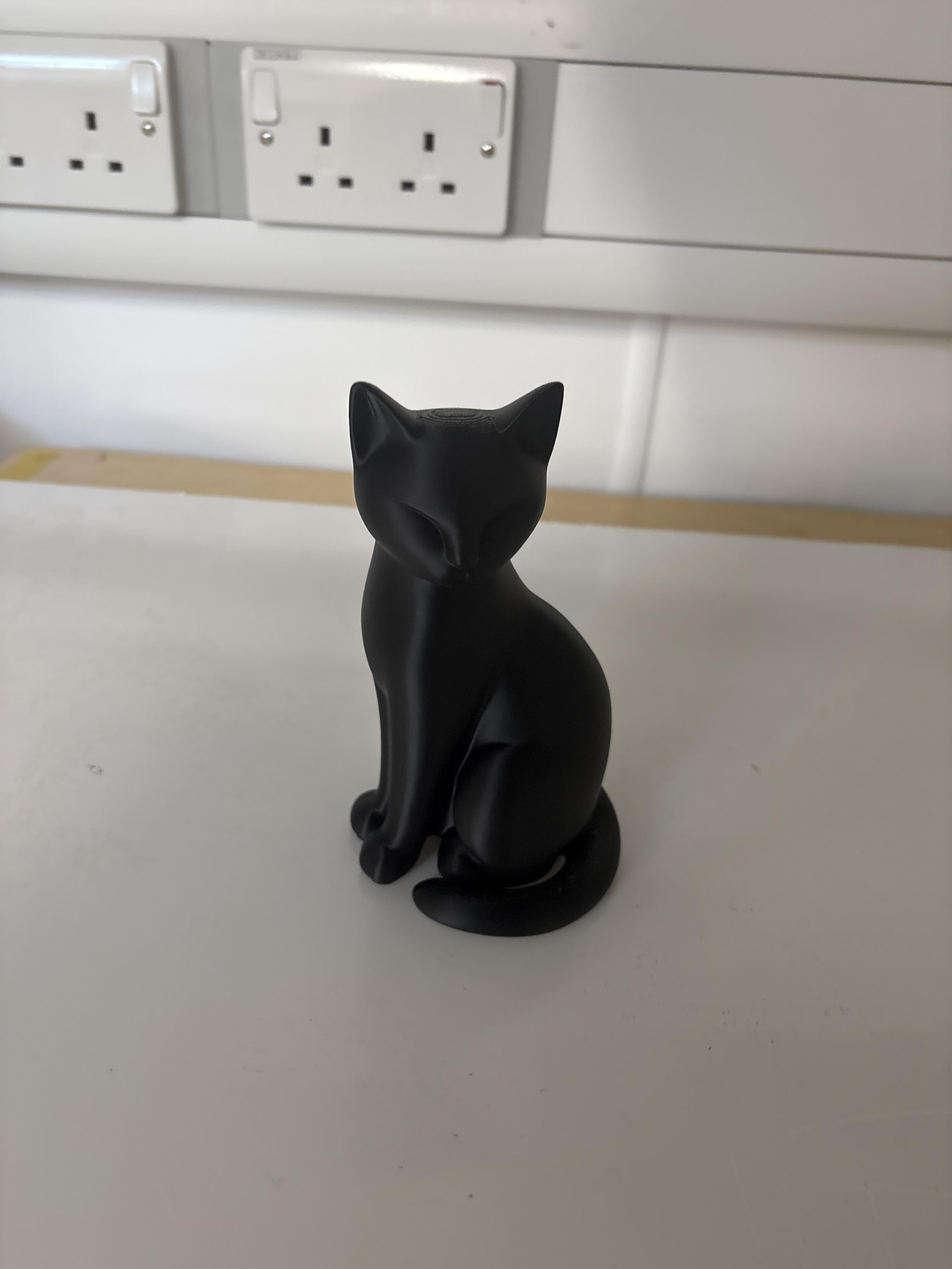cat: (350, 383, 619, 935)
